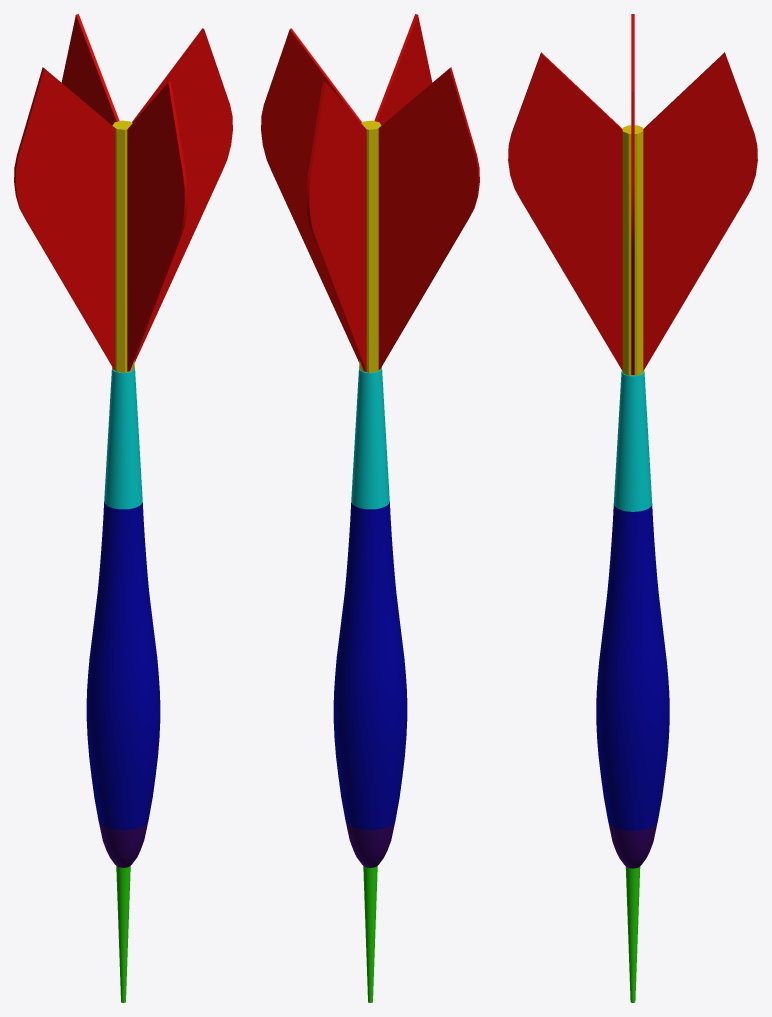
File: Dart.fbx
3 views of the same model, side by side, from view 1: azimuth 30°, elevation 25°; view 2: azimuth 150°, elevation 25°; view 3: azimuth 270°, elevation 25° (orthographic).
Parts seen in each view (by area): view 1: Dart; view 2: Dart; view 3: Dart.
Boxes of the visible parts, bbox=[...] form: Dart: bbox=[14, 14, 232, 1002]; Dart: bbox=[261, 14, 479, 1002]; Dart: bbox=[508, 14, 757, 1002].
Bounding box in the file's own units: 5.24 × 21.99 × 5.24.
